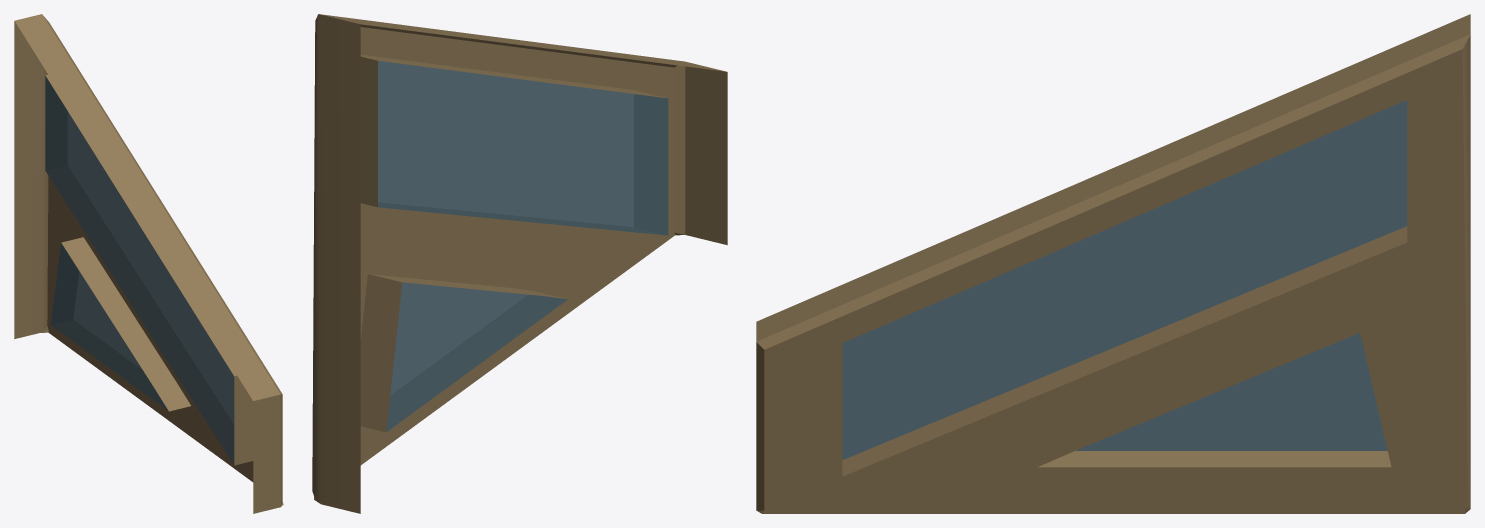
Rendered from BO_FrameBarrier_01.fbx.
3 views of the same model, side by side, from view 1: azimuth 30°, elevation 25°; view 2: azimuth 150°, elevation 25°; view 3: azimuth 270°, elevation 25° (orthographic). The views are drawn at different scales.
Parts seen in each view (by area): view 1: BO_FrameBarrier_01; view 2: BO_FrameBarrier_01; view 3: BO_FrameBarrier_01.
Boxes of the visible parts, box(x1,y1,x2,y2) form: BO_FrameBarrier_01: box(14, 14, 283, 513); BO_FrameBarrier_01: box(312, 14, 727, 513); BO_FrameBarrier_01: box(756, 14, 1470, 513).
Bounding box in the file's own units: 77.96 × 736 × 1000.
